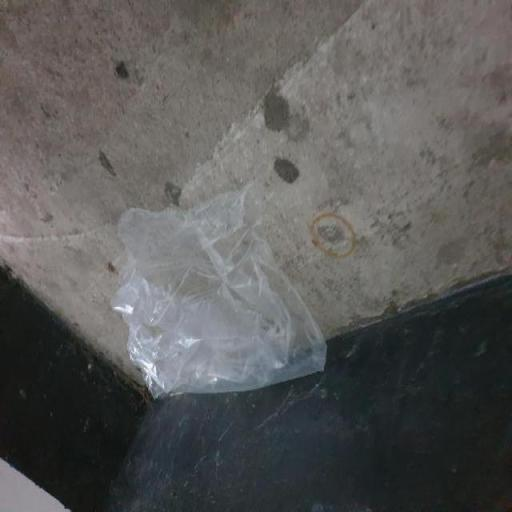plastic-bag: (104, 180, 331, 403)
